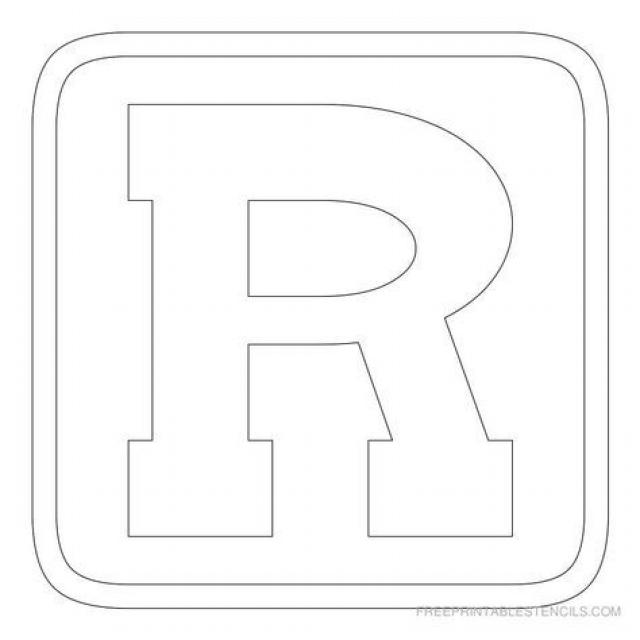R: (102, 80, 536, 557)
